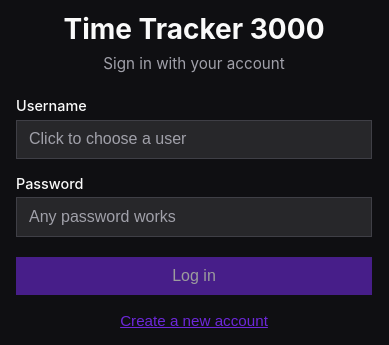
Test: LoginPage › shows user dropdown when username input is focused
Click the field labelled "Username" at x=194, y=139, box [16,120,372,159]
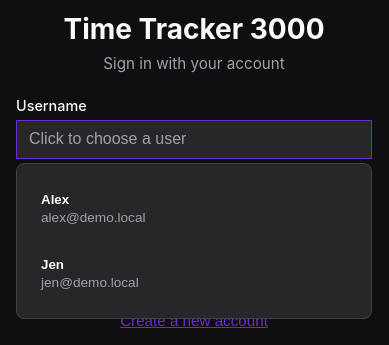
Expected: the list is shown, [16,163,372,319]
Expected: the text "Alex" is shown, [41,192,69,207]
Expected: the text "Jen" is shown, [41,257,64,272]
